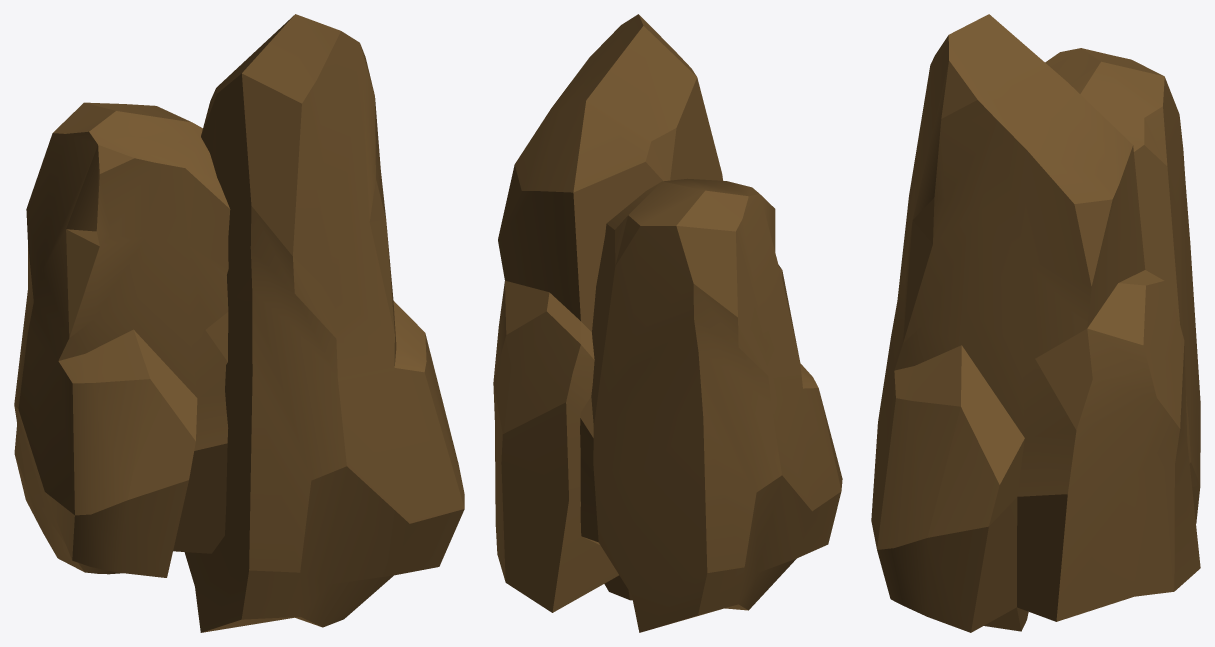
The model's file is decor-spire.glb.
3 renders of one model, left to right at view 1: azimuth 30°, elevation 25°; view 2: azimuth 150°, elevation 25°; view 3: azimuth 270°, elevation 25°, orthographic. The views are drawn at different scales.
Visible parts, largest first — view 1: Rock_4; view 2: Rock_4; view 3: Rock_4.
Boxes of the visible parts, x1=… form: Rock_4: x1=14, y1=14, x2=464, y2=632; Rock_4: x1=493, y1=14, x2=842, y2=632; Rock_4: x1=871, y1=14, x2=1200, y2=632.
Bounding box in the file's own units: 2.8 × 4.5 × 2.21.
Materials: 1 (1 with a texture image).
